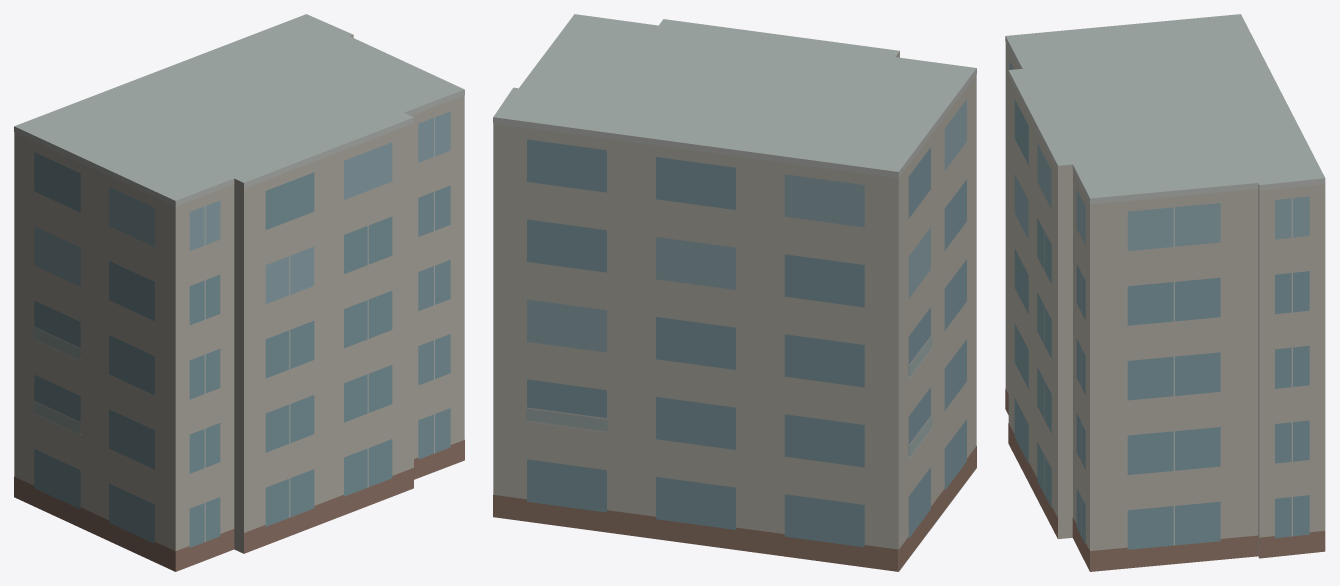
Rendered from survey-upis-32720254.glb.
The picture shows the model from 3 angles, left to right: view 1: azimuth 30°, elevation 25°; view 2: azimuth 150°, elevation 25°; view 3: azimuth 270°, elevation 25°; orthographic projection. The views are drawn at different scales.
Parts seen in each view (by area): view 1: survey-upis-32720254.tmp; view 2: survey-upis-32720254.tmp; view 3: survey-upis-32720254.tmp.
Part boxes in pixels (x1,y1,x2,y2): survey-upis-32720254.tmp: (14, 14, 464, 571); survey-upis-32720254.tmp: (493, 14, 976, 571); survey-upis-32720254.tmp: (1005, 14, 1325, 571).
Size of the model in its own units: 16.44 by 15.5 by 12.05.
